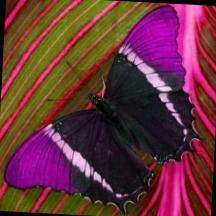butterfly: (4, 5, 197, 212)
